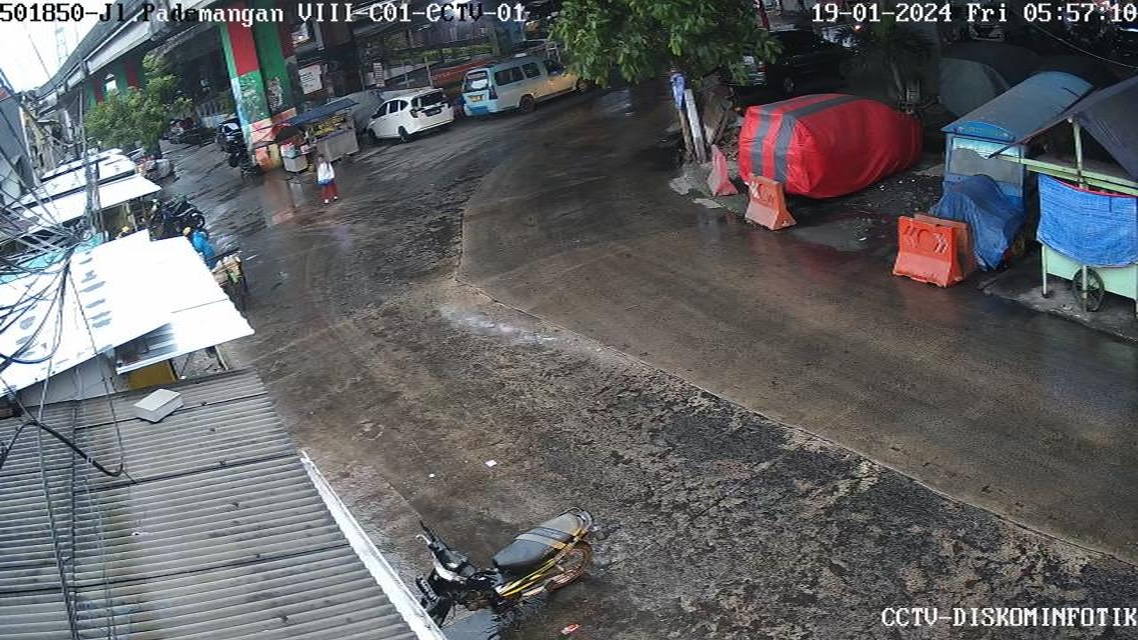Gerobak: (1030, 83, 1138, 310), (933, 118, 1030, 275), (311, 118, 363, 163)
